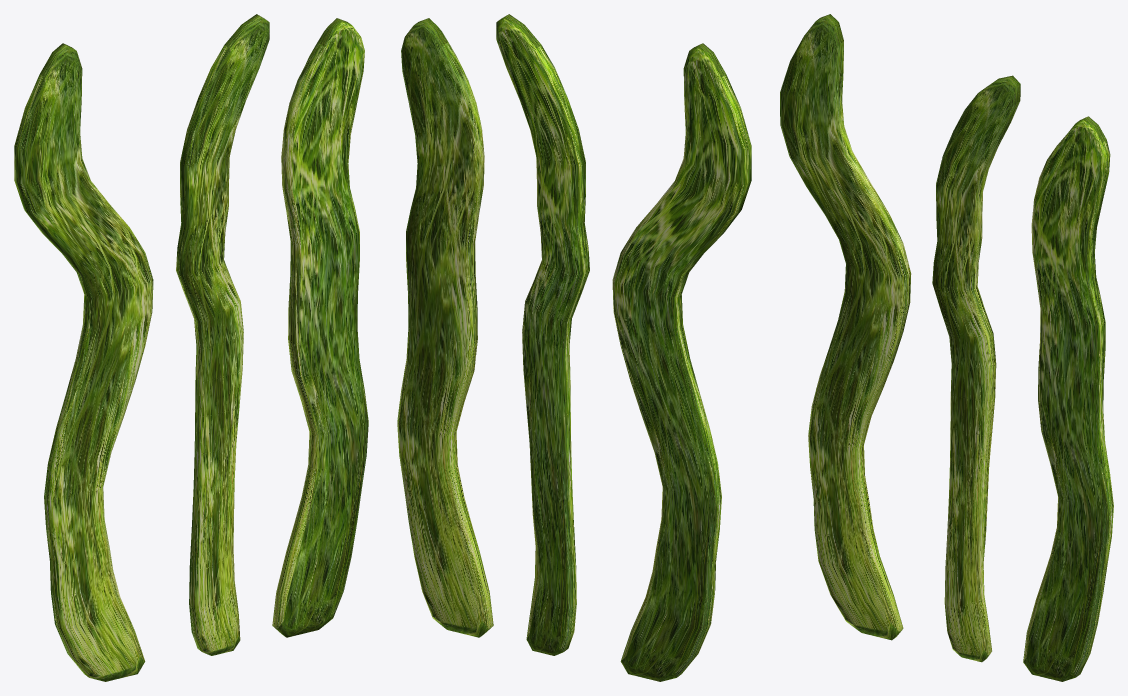
Rendered from Seaweed_Single.fbx.
3 views of the same model, side by side, from view 1: azimuth 30°, elevation 25°; view 2: azimuth 150°, elevation 25°; view 3: azimuth 330°, elevation 25° (orthographic). The views are drawn at different scales.
Parts seen in each view (by area): view 1: Seaweed, Seaweed2, Seaweed1; view 2: Seaweed, Seaweed2, Seaweed1; view 3: Seaweed, Seaweed2, Seaweed1.
Part boxes in pixels (box(x1,y1,x2,y2)): Seaweed: box(14, 43, 153, 681); Seaweed2: box(272, 18, 368, 637); Seaweed1: box(176, 14, 269, 655); Seaweed: box(612, 43, 751, 681); Seaweed2: box(397, 18, 493, 637); Seaweed1: box(496, 14, 589, 655); Seaweed: box(780, 14, 911, 640); Seaweed2: box(1023, 116, 1113, 681); Seaweed1: box(932, 75, 1020, 662).
Size of the model in its own units: 0.5616 by 0.989 by 0.027.
1 material, 1 textured.
